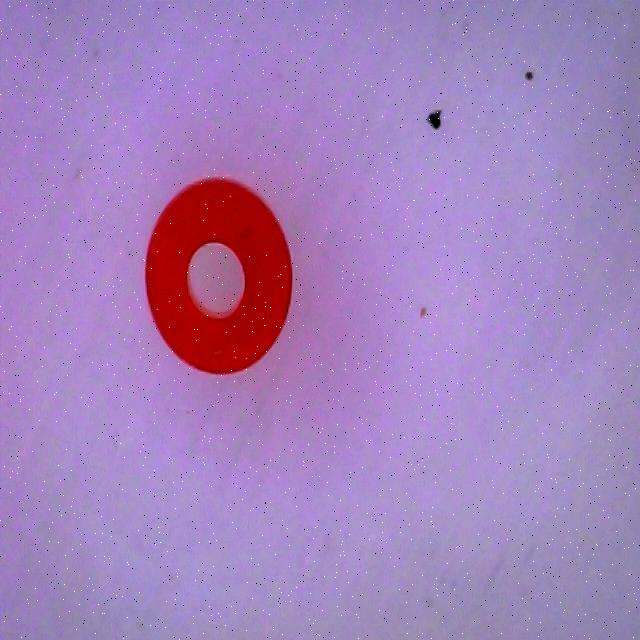beads: (144, 177, 294, 376)
